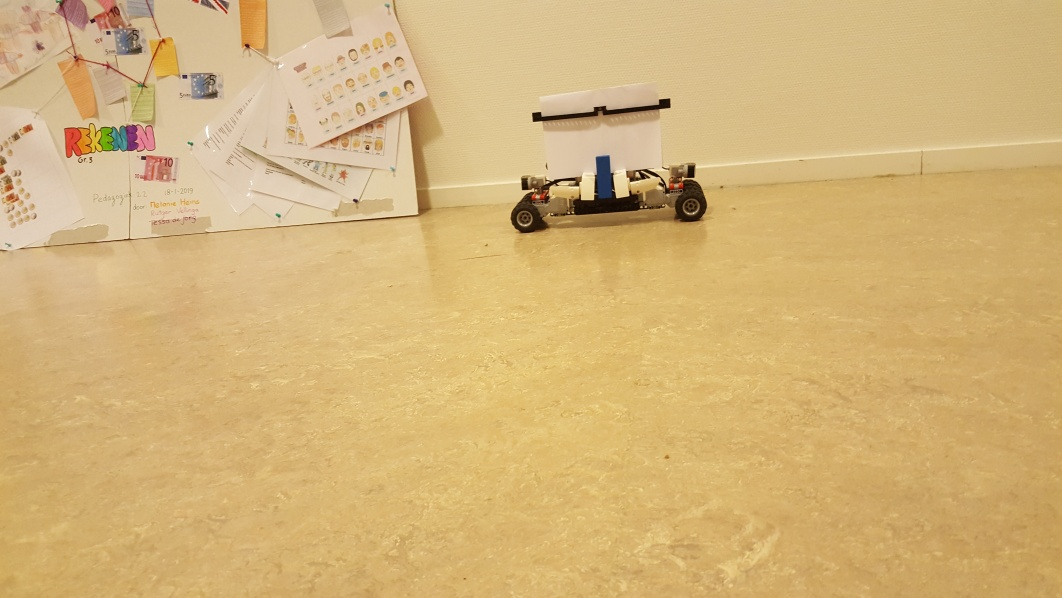beam: (594, 151, 611, 199)
